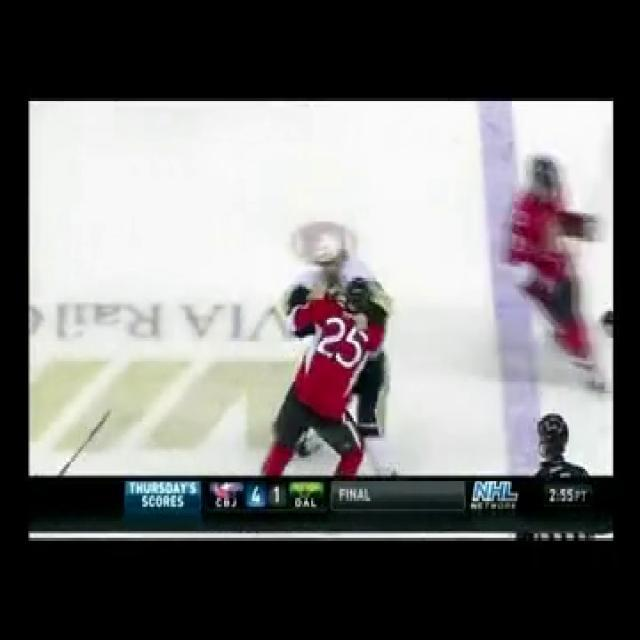non-violence: (504, 154, 604, 386), (531, 411, 591, 474)
violence: (261, 233, 398, 474)
